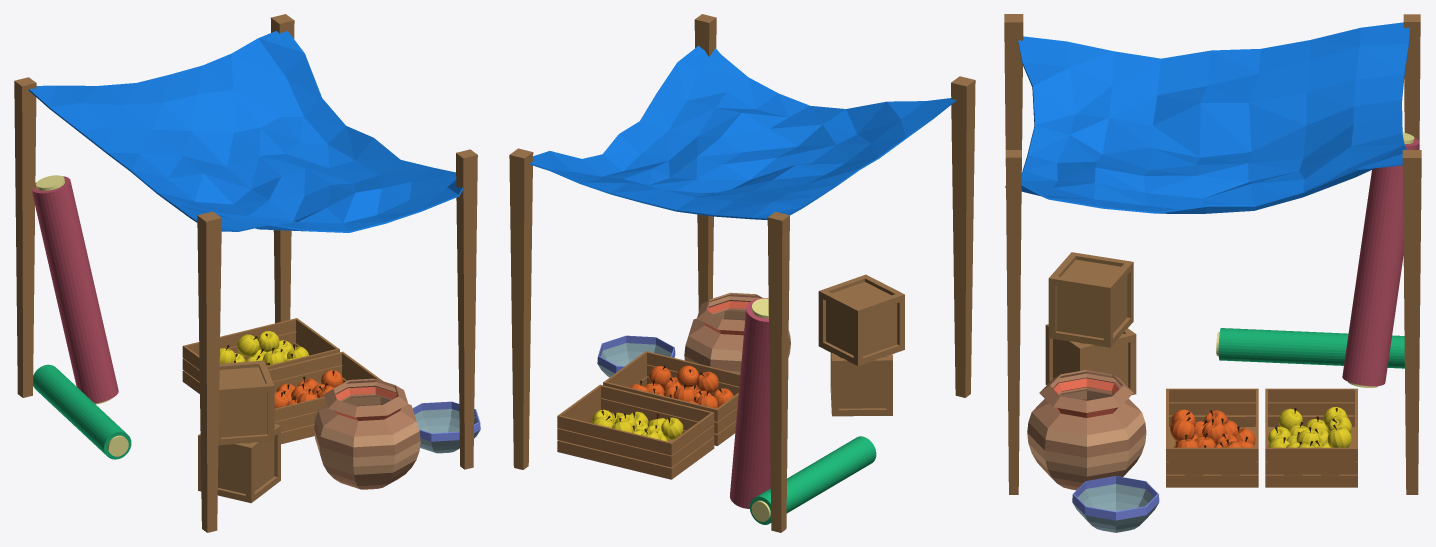
The model's file is SL_Shop4.fbx.
3 views of the same model, side by side, from view 1: azimuth 30°, elevation 25°; view 2: azimuth 150°, elevation 25°; view 3: azimuth 270°, elevation 25° (orthographic). The views are drawn at different scales.
Parts seen in each view (by area): view 1: SL_Shop.009; view 2: SL_Shop.009; view 3: SL_Shop.009.
Boxes of the visible parts, x1,y1,x2,y2 form: SL_Shop.009: (14, 14, 480, 532); SL_Shop.009: (509, 14, 975, 532); SL_Shop.009: (1004, 14, 1421, 532).
Size of the model in its own units: 713 by 707 by 736.
